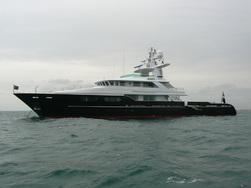yacht: (13, 41, 238, 118)
